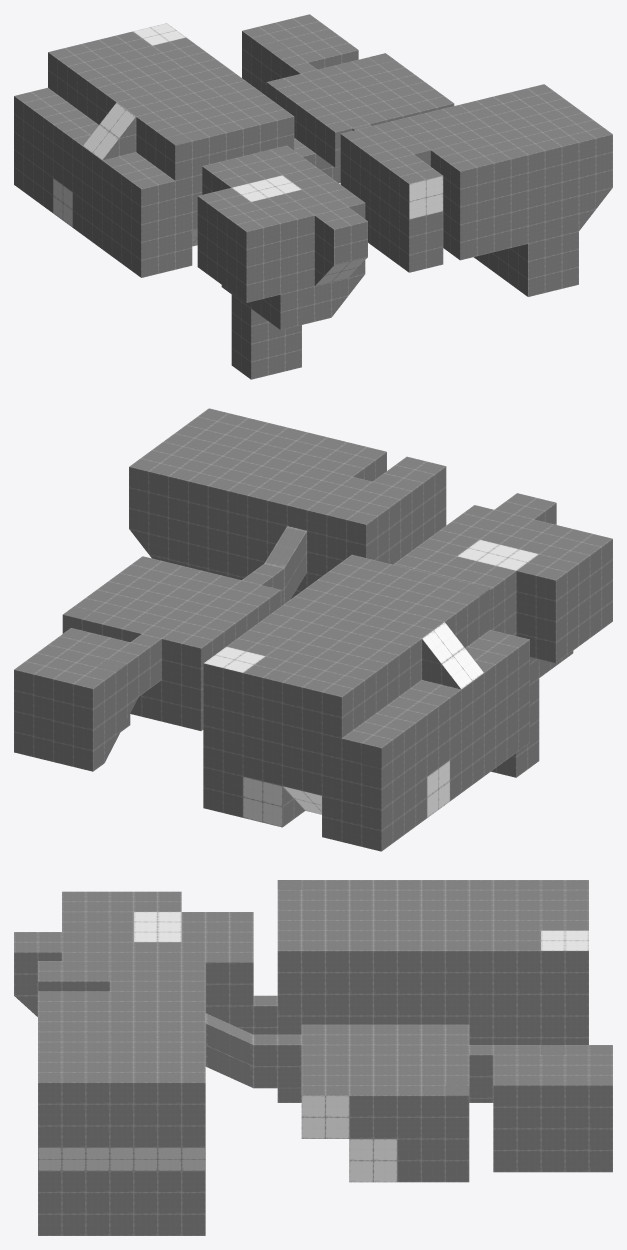
File: level.fbx
The picture shows the model from 3 angles, top to bottom: view 1: azimuth 30°, elevation 25°; view 2: azimuth 150°, elevation 25°; view 3: azimuth 270°, elevation 25°; orthographic projection. The views are drawn at different scales.
Parts seen in each view (by area): view 1: Default Wall, Portal Wall.013, Portal Wall.002, Portal Wall.004, Portal Wall.011, Portal Wall.012, Portal Wall.005; view 2: Default Wall, Portal Wall.013, Portal Wall.009, Portal Wall.004, Portal Wall.011, Portal Wall.012; view 3: Default Wall, Portal Wall.001, Portal Wall, Portal Wall.006, Portal Wall.004, Portal Wall.012.
Boxes of the visible parts, x1,y1,x2,y2 form: Default Wall: [14, 14, 612, 379]; Portal Wall.013: [83, 102, 135, 160]; Portal Wall.002: [409, 176, 443, 219]; Portal Wall.004: [232, 175, 301, 201]; Portal Wall.011: [53, 178, 72, 227]; Portal Wall.012: [133, 23, 185, 45]; Portal Wall.005: [315, 257, 367, 286]; Default Wall: [14, 408, 612, 851]; Portal Wall.013: [422, 622, 483, 689]; Portal Wall.009: [243, 776, 282, 827]; Portal Wall.004: [457, 539, 538, 570]; Portal Wall.011: [427, 760, 449, 817]; Portal Wall.012: [204, 646, 265, 672]; Default Wall: [14, 880, 612, 1235]; Portal Wall.001: [38, 1147, 205, 1170]; Portal Wall: [349, 1139, 397, 1182]; Portal Wall.006: [301, 1095, 349, 1138]; Portal Wall.004: [133, 912, 181, 942]; Portal Wall.012: [541, 930, 588, 950].
Size of the model in its own units: 22 by 25 by 11.
